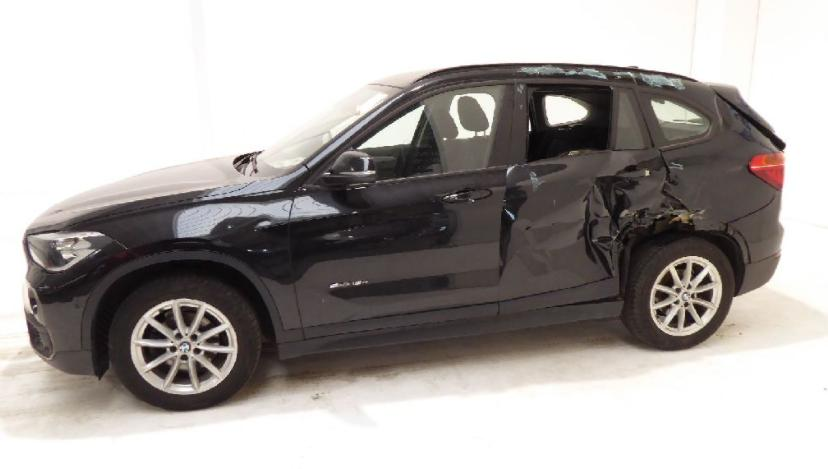Back-bumper: (728, 190, 784, 295)
Back-door: (499, 77, 668, 314)
Back-wheel: (622, 232, 735, 351)
Back-window: (643, 91, 709, 148), (616, 91, 646, 147)
Fender: (68, 165, 311, 344)
Front-bumper: (24, 240, 142, 378)
Front-door: (288, 80, 514, 341)
Front-wheel: (108, 276, 262, 412)
Front-window: (350, 85, 513, 181)
Headlight: (27, 231, 113, 273)
Hood: (26, 153, 256, 234)
Mirror: (323, 151, 377, 188)
Quarter-panel: (659, 117, 778, 230)
Rocker-panel: (279, 297, 623, 360)
Roof: (368, 67, 468, 90)
Tail-light: (749, 152, 785, 190)
Trunk: (705, 84, 787, 151)
Windshield: (244, 83, 403, 180)
